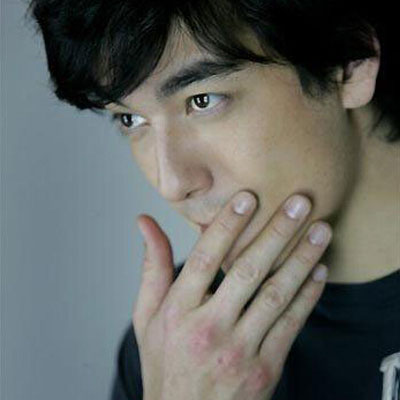face: (104, 1, 334, 291)
